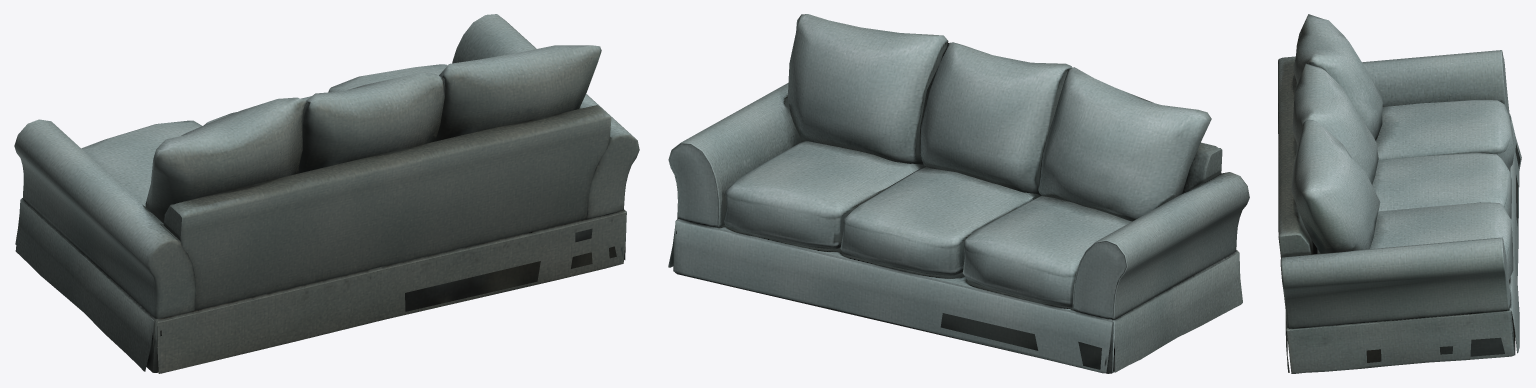
The model's file is Sofa.obj.
3 views of the same model, side by side, from view 1: azimuth 30°, elevation 25°; view 2: azimuth 150°, elevation 25°; view 3: azimuth 270°, elevation 25° (orthographic). The views are drawn at different scales.
Parts seen in each view (by area): view 1: CasualSofa_834236_Stone_Gray__CasualSofa_834236_Stone_Gray__lowp; view 2: CasualSofa_834236_Stone_Gray__CasualSofa_834236_Stone_Gray__lowp; view 3: CasualSofa_834236_Stone_Gray__CasualSofa_834236_Stone_Gray__lowp.
Boxes of the visible parts, bbox=[...] form: CasualSofa_834236_Stone_Gray__CasualSofa_834236_Stone_Gray__lowp: bbox=[14, 14, 639, 373]; CasualSofa_834236_Stone_Gray__CasualSofa_834236_Stone_Gray__lowp: bbox=[668, 14, 1249, 373]; CasualSofa_834236_Stone_Gray__CasualSofa_834236_Stone_Gray__lowp: bbox=[1278, 14, 1521, 373].
Size of the model in its own units: 211 by 94.29 by 108.
1 material, 1 textured.
